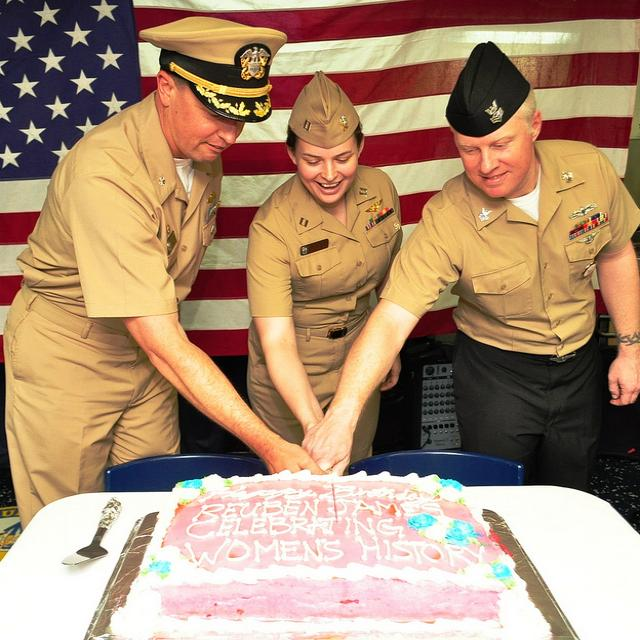chair: (350, 450, 524, 486), (104, 455, 266, 491)
dining table: (1, 484, 640, 633)
